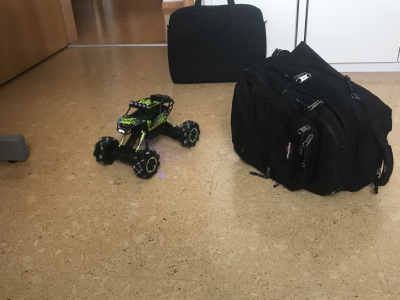remote control car: (93, 92, 201, 180)
